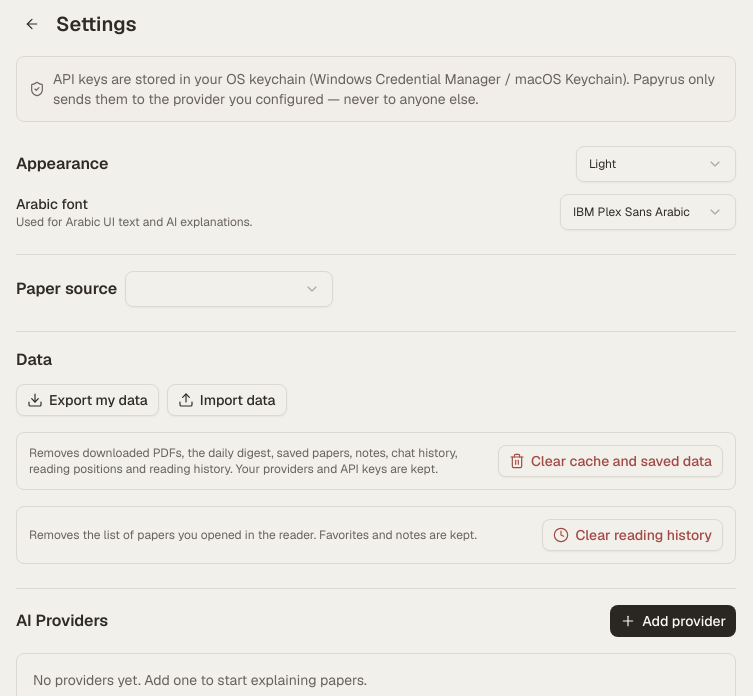
settings page › runs the export flow and shows the saved path
Click the button "Export my data". click: click(87, 400)
box: [16, 384, 159, 416]
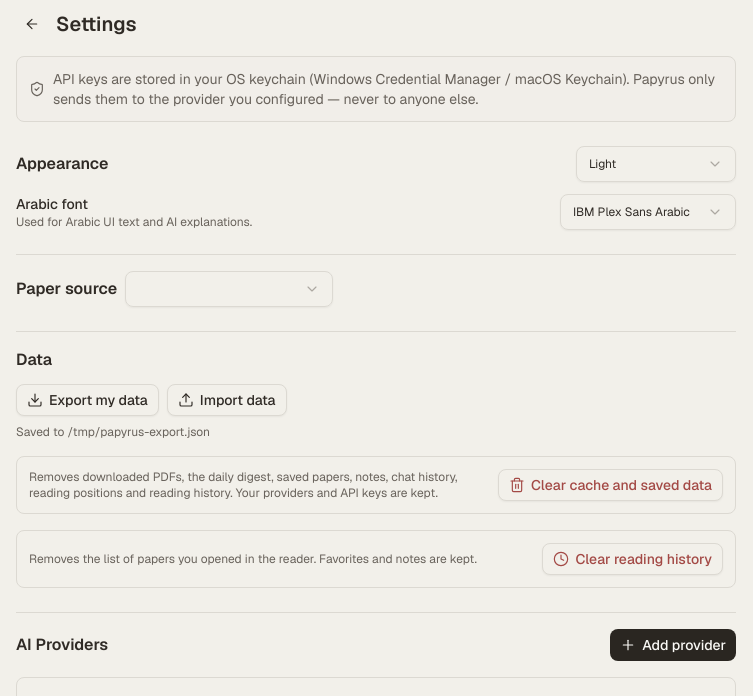
Result: the text "Saved to /tmp/papyrus-export.json" is shown at [16, 424, 210, 440]
